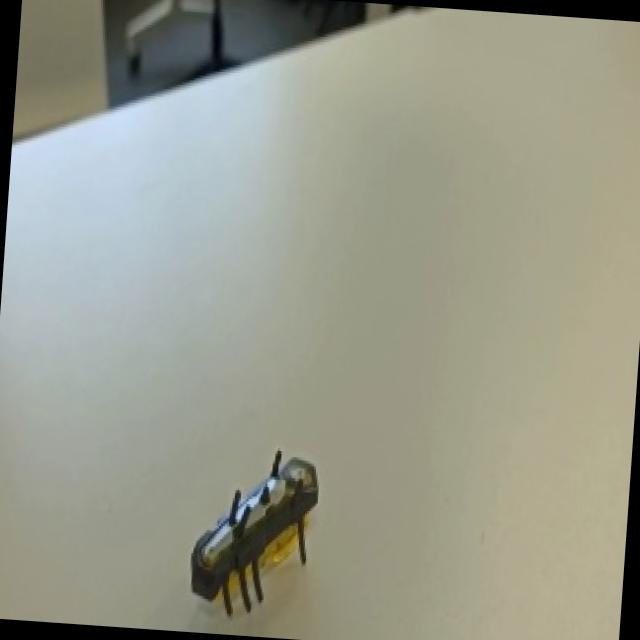6_NanoBug_GrisOscuro: (96, 393, 337, 640)
